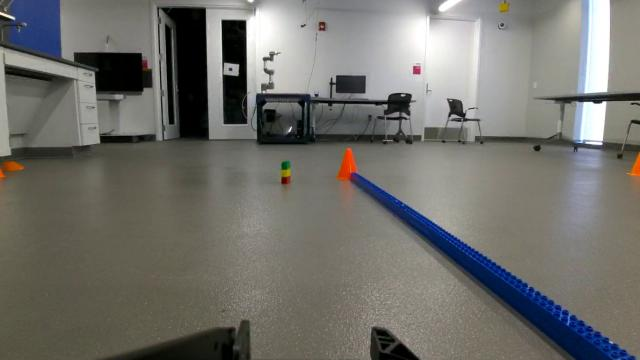lego: (276, 153, 296, 197)
